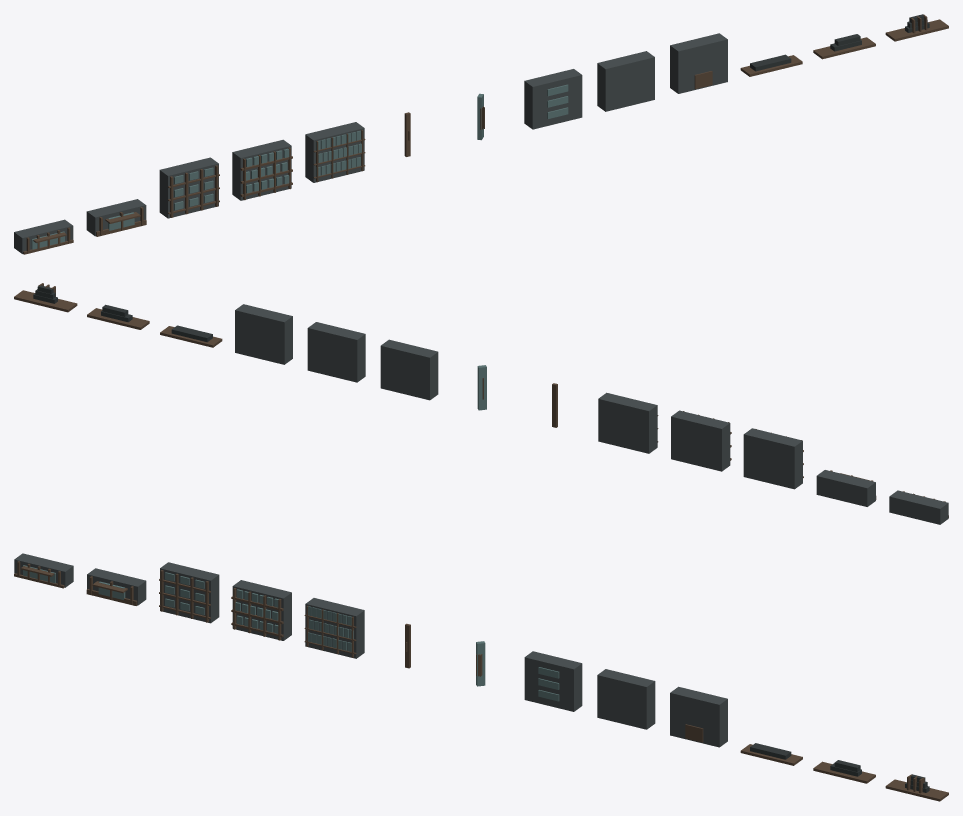
Rendered from bronze-vertical-modern.glb.
3 views of the same model, one above another, from view 1: azimuth 30°, elevation 25°; view 2: azimuth 150°, elevation 25°; view 3: azimuth 330°, elevation 25° (orthographic).
Visible parts, largest first — view 1: middle-wall (×3), party-wall, rear-wall, exposed-wall, base-shell (×2), cornice; view 2: middle-wall (×3), base-shell (×2), party-wall, exposed-wall, rear-wall, cornice; view 3: middle-wall (×3), party-wall, rear-wall, exposed-wall, base-shell (×2).
Boxes of the visible parts, left/top/right/bottom form: middle-wall (×3): left=159, top=122, right=364, bottom=218; party-wall: left=597, top=51, right=654, bottom=111; rear-wall: left=670, top=33, right=727, bottom=93; exposed-wall: left=524, top=69, right=582, bottom=129; base-shell (×2): left=14, top=199, right=146, bottom=253; cornice: left=885, top=19, right=948, bottom=41; middle-wall (×3): left=598, top=392, right=802, bottom=489; base-shell (×2): left=816, top=470, right=948, bottom=524; party-wall: left=307, top=322, right=365, bottom=382; exposed-wall: left=380, top=339, right=438, bottom=400; rear-wall: left=235, top=304, right=292, bottom=364; cornice: left=14, top=290, right=77, bottom=312; middle-wall (×3): left=160, top=562, right=364, bottom=658; party-wall: left=597, top=669, right=655, bottom=729; rear-wall: left=670, top=686, right=727, bottom=747; exposed-wall: left=524, top=651, right=582, bottom=711; base-shell (×2): left=14, top=553, right=146, bottom=605.
Size of the model in its own units: 63.61 by 2.8 by 1.6.
